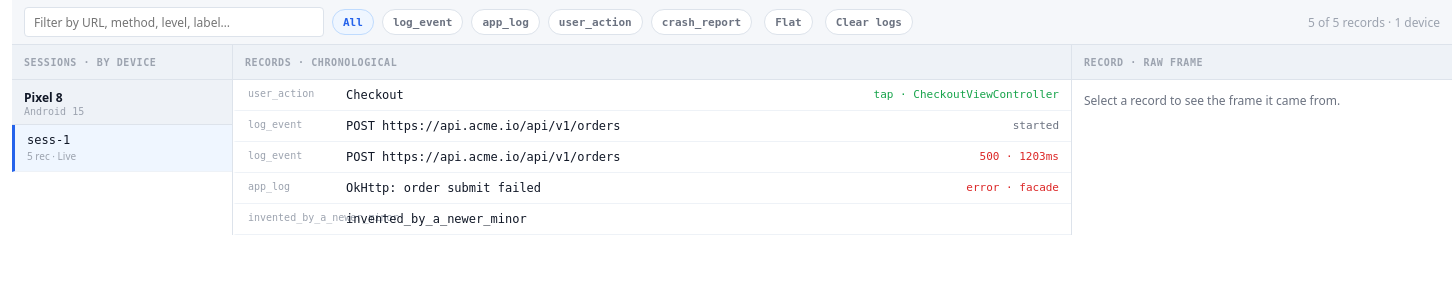
Test: a filter narrows the list without losing the record it points at
Type "okhttp" into the field named "Filter records" at [174, 22], box [24, 7, 324, 37]
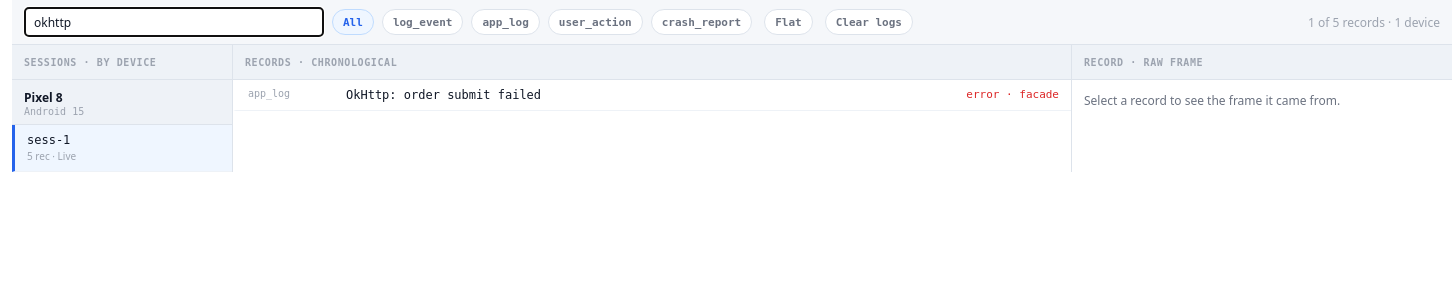
Result: the text "1 of 5 records · 1 device" is shown at [1308, 14, 1440, 30]
The surviving row still opens its own frame — filtering must not shift the selection.
Click the text "OkHttp: order submit failed" at [444, 95], box [346, 88, 541, 102]
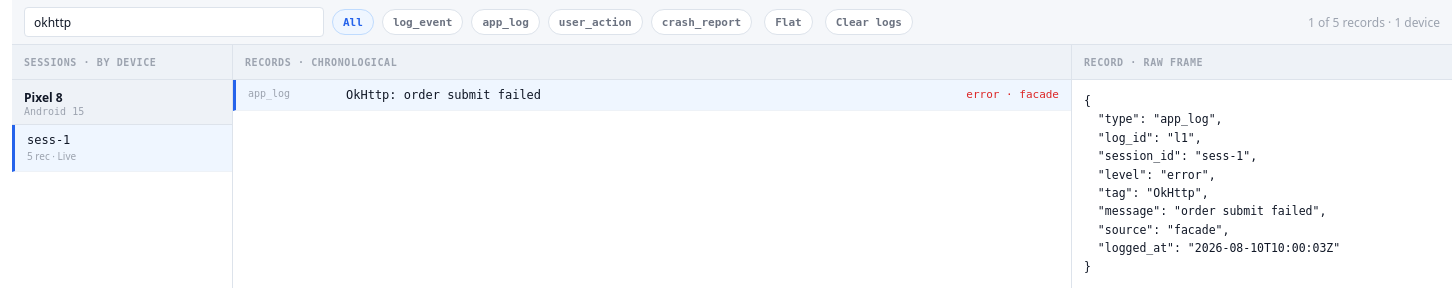
Result: the text named "Raw frame" shows "\"log_id\": \"l1\"" at [1084, 94, 1340, 274]
